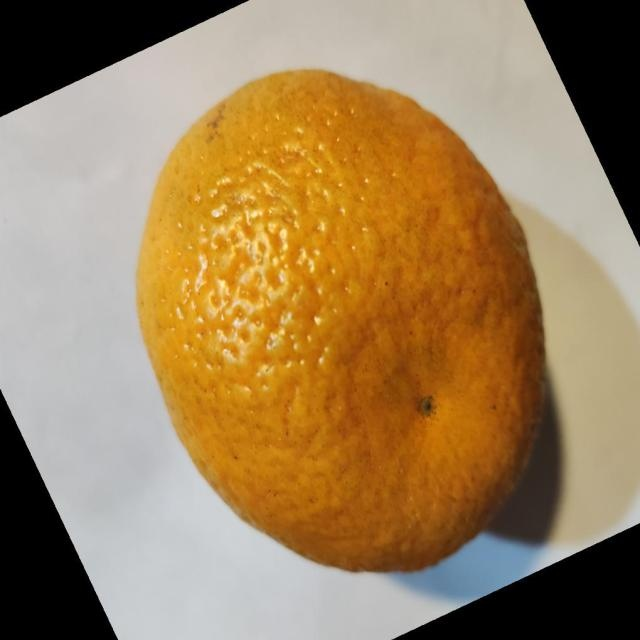agrume: (134, 67, 548, 574)
